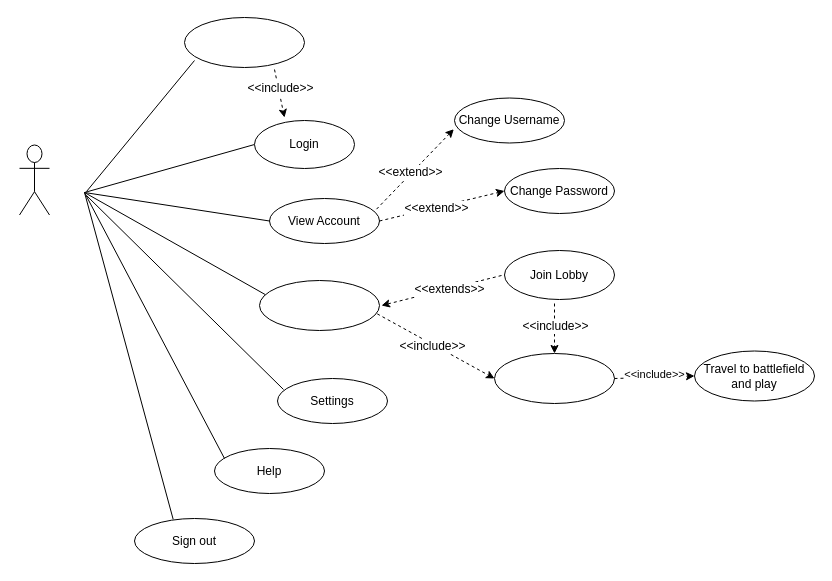
Some shapes in this 832 by 581 pixel diagram are drawn without their labels. Here are the shapes that lost their labels. From the top down, the centre of each, then its label:
At (244,42): "Register".
At (34,179): "Player".
At (319,305): "Start new game".
At (554,378): "Create character".
